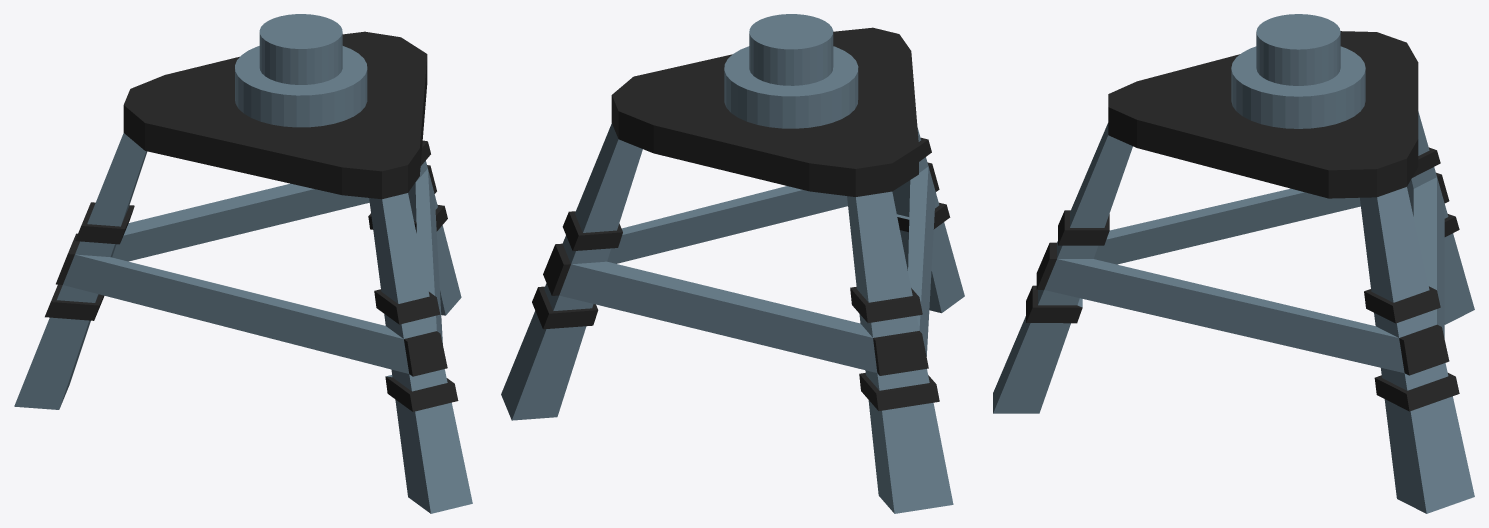
Rendered from turretbase.fbx.
The picture shows the model from 3 angles, left to right: view 1: azimuth 30°, elevation 25°; view 2: azimuth 150°, elevation 25°; view 3: azimuth 270°, elevation 25°; orthographic projection.
Parts seen in each view (by area): view 1: Cube, Cylinder.001; view 2: Cube, Cylinder.001; view 3: Cube, Cylinder.001.
Boxes of the visible parts, x1,y1,x2,y2 form: Cube: (14,31,472,513); Cylinder.001: (235,14,367,127); Cube: (501,27,964,513); Cylinder.001: (724,14,858,128); Cube: (993,31,1474,513); Cylinder.001: (1231,14,1365,128).
Size of the model in its own units: 383 by 300 by 353.
